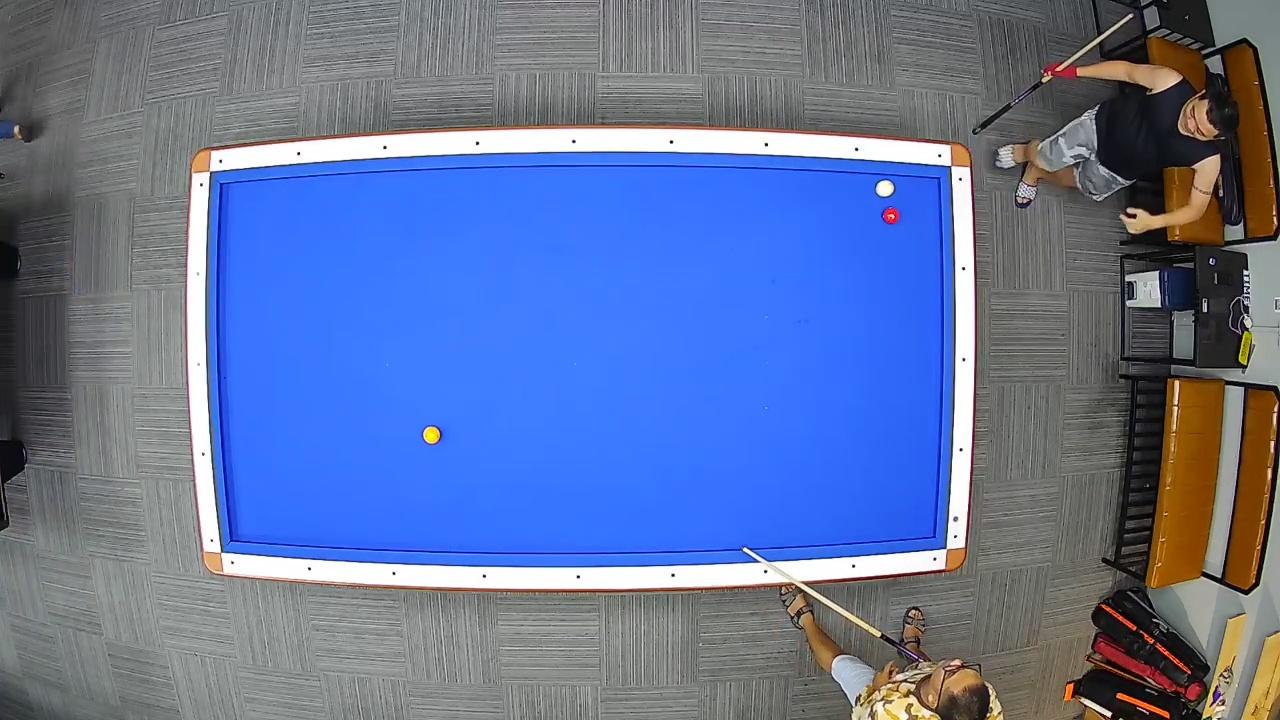Red: (882, 205, 901, 226)
White: (874, 178, 896, 198)
Yellow: (422, 423, 442, 445)
